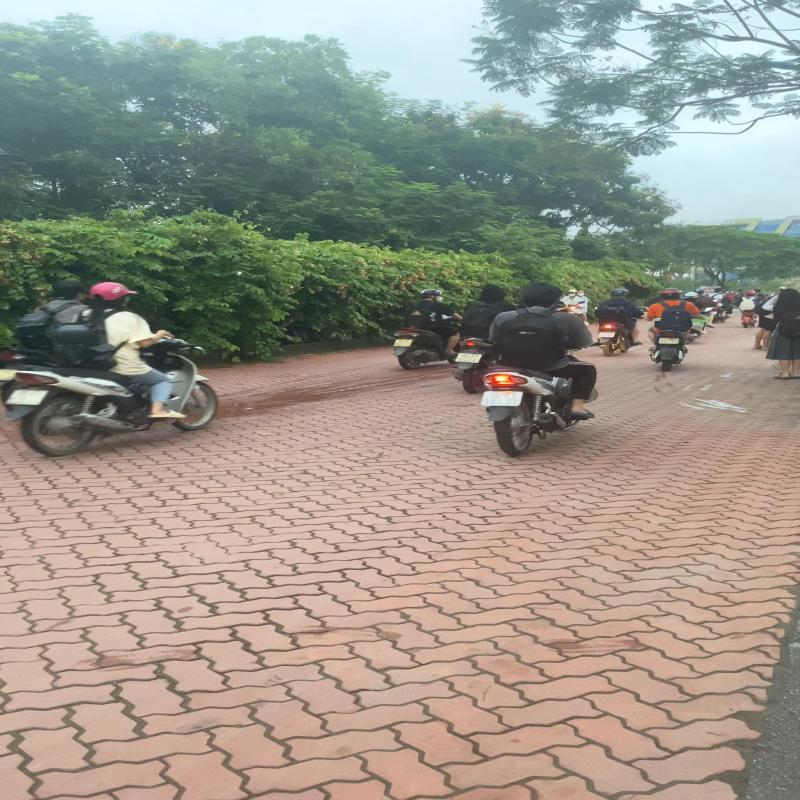licenseplate: (481, 390, 522, 406)
motorcyclist: (476, 282, 606, 456)
nohelmet: (520, 282, 563, 308)
